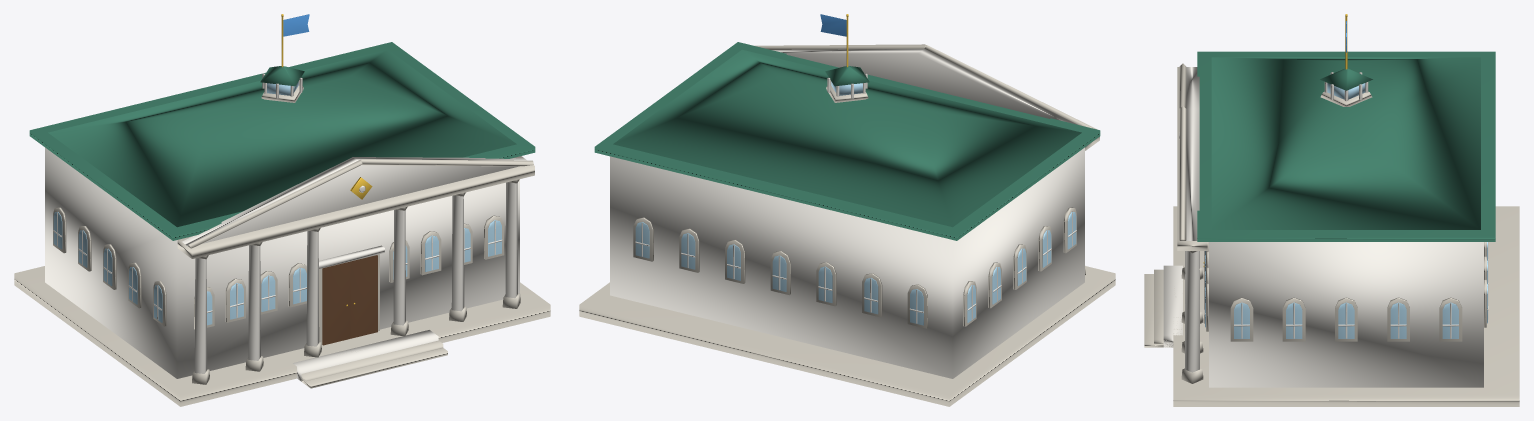
The model's file is townhall_marble_low.glb.
3 views of the same model, side by side, from view 1: azimuth 30°, elevation 25°; view 2: azimuth 150°, elevation 25°; view 3: azimuth 270°, elevation 25° (orthographic). The views are drawn at different scales.
Bounding box in the file's own units: 16.2 × 12 × 13.65.
